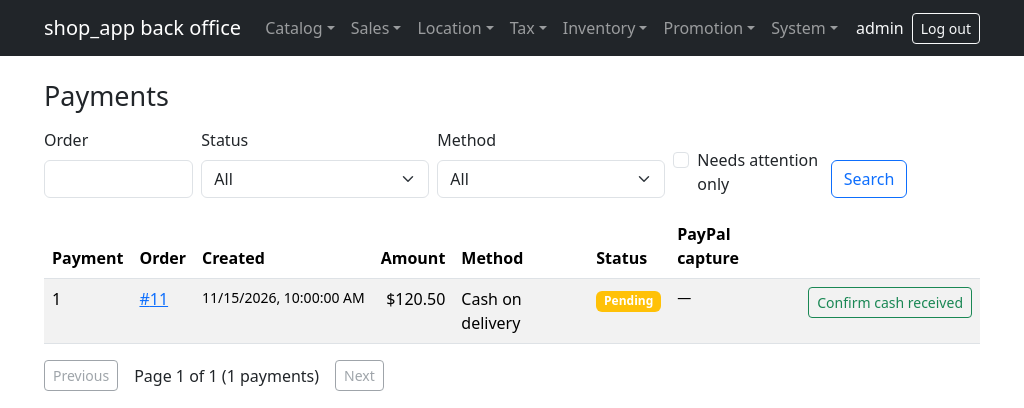
Test case: Payments page › confirms a pending cash-on-delivery payment after asking
Click the button "Confirm cash received" at (890, 303), box x1=808 y1=287 x2=972 y2=318
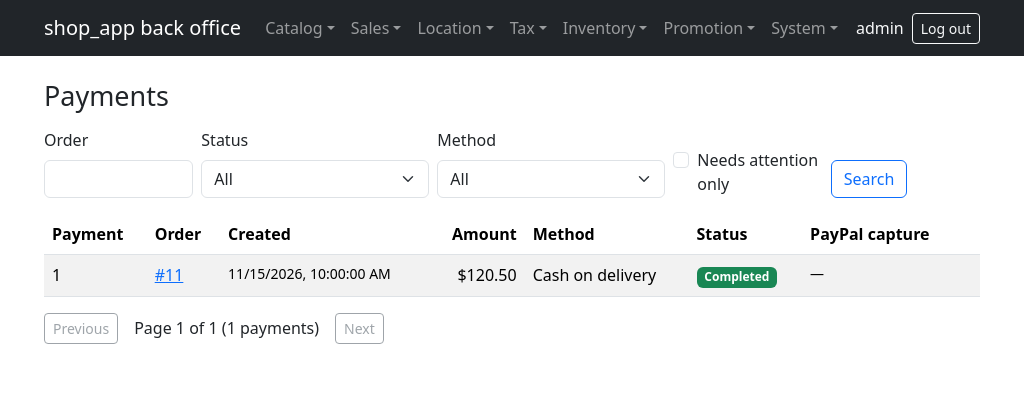
Expected: the text "Completed" is shown, x1=696 y1=267 x2=777 y2=288
Expected: the button "Confirm cash received" is gone
